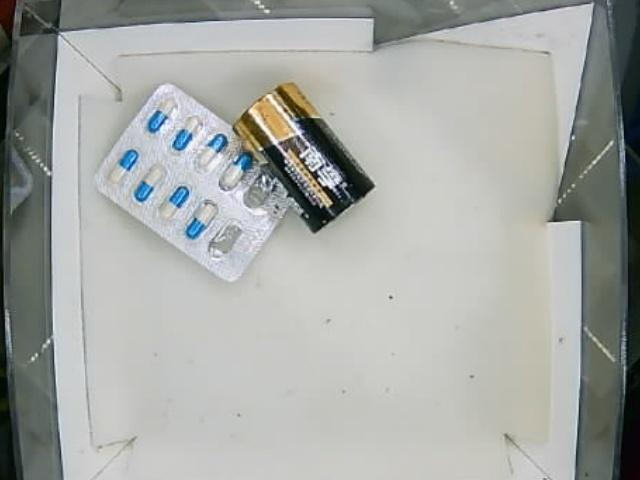Battery: (236, 82, 377, 237)
Medicine: (97, 81, 296, 281)
